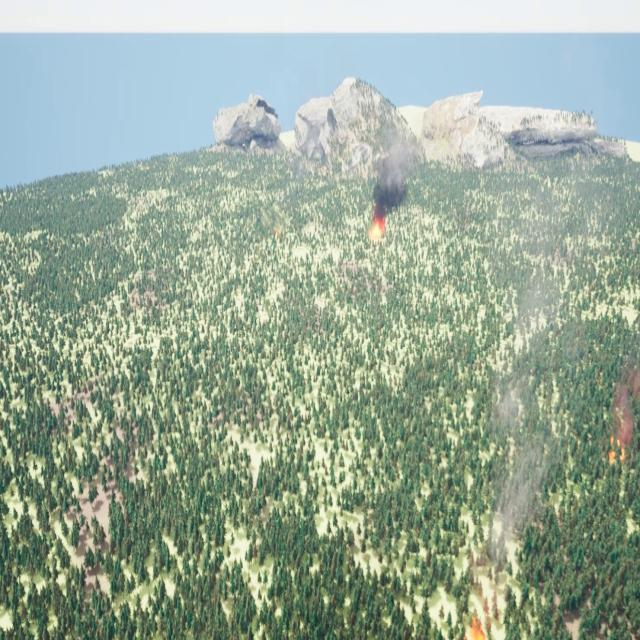fire: (605, 430, 625, 463), (366, 211, 387, 237), (462, 618, 485, 639)
smoke: (476, 279, 558, 608), (372, 147, 412, 212), (612, 371, 639, 440)
